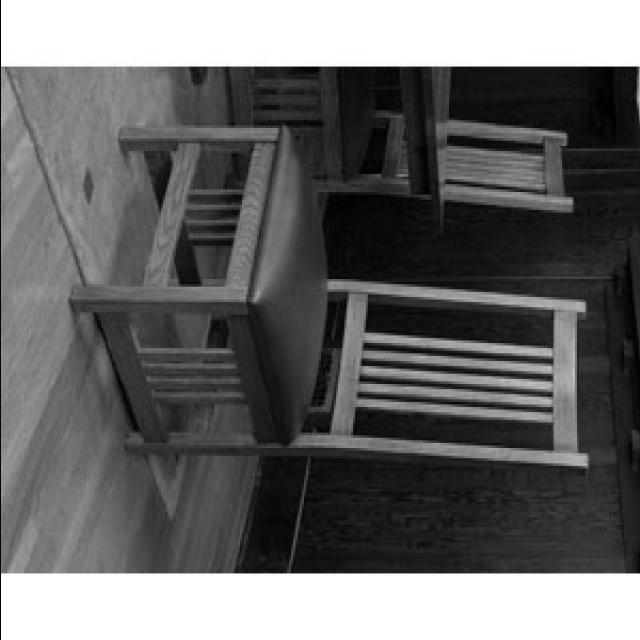chair: (66, 128, 586, 480), (226, 66, 576, 210)
